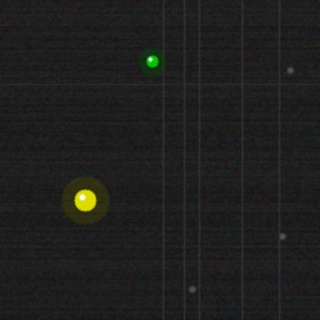green_normal: (144, 53, 160, 69)
yellow_warning: (72, 187, 98, 213)
